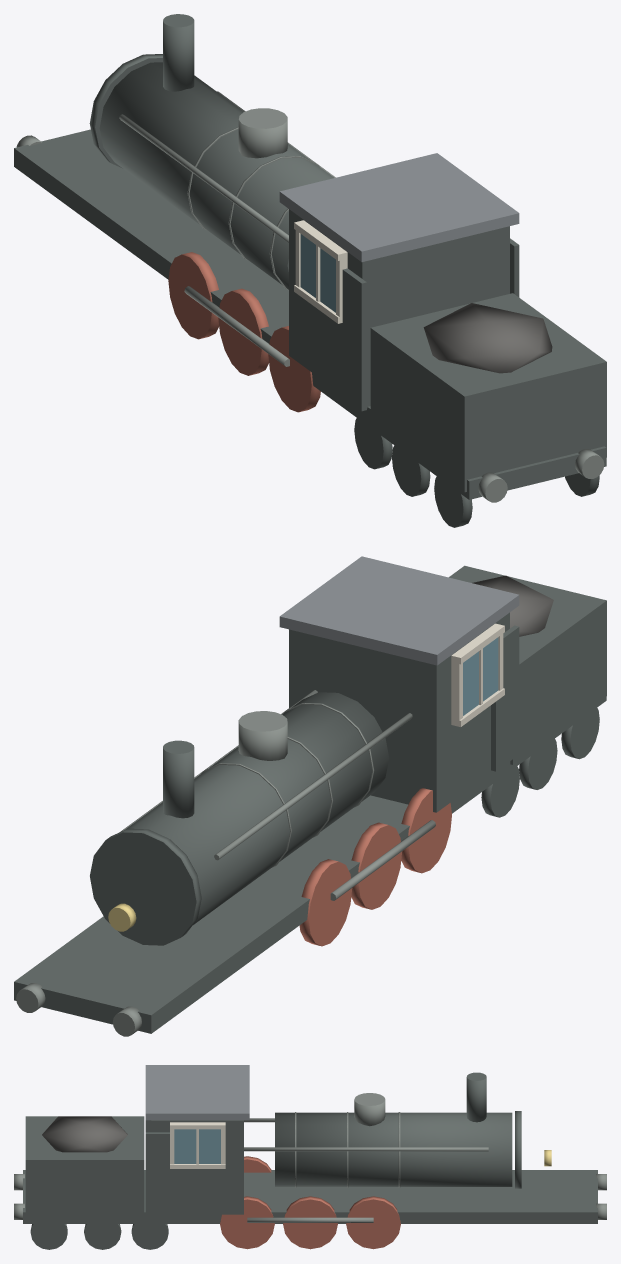
Rendered from rhine-g3_lod0.glb.
The picture shows the model from 3 angles, top to bottom: view 1: azimuth 30°, elevation 25°; view 2: azimuth 150°, elevation 25°; view 3: azimuth 270°, elevation 25°; orthographic projection. The views are drawn at different scales.
Visible parts, largest first — view 1: RF_Tender, RF_Boiler, RF_Chassis, RF_CabRoof, RF_Cab, RF_TenderCoal, RF_CabDoor.001, RF_DrivingWheel.003, RF_DrivingWheel.002, RF_Chimney, RF_DrivingWheel.001, RF_Dome (+10 smaller); view 2: RF_Chassis, RF_Boiler, RF_Cab, RF_CabRoof, RF_Tender, RF_SmokeboxFront, RF_DrivingWheel.003, RF_CabDoor.001, RF_DrivingWheel.002, RF_DrivingWheel.001, RF_Chimney, RF_Dome (+11 smaller); view 3: RF_Boiler, RF_Chassis, RF_Tender, RF_CabRoof, RF_Cab, RF_TenderCoal, RF_CabDoor, RF_DrivingWheel, RF_DrivingWheel.005, RF_DrivingWheel.004, RF_Window, RF_SteamPipe (+10 smaller).
Part boxes in pixels (<box>): RF_Tender: <box>370,293,606,492</box>; RF_Boiler: <box>99,62,334,289</box>; RF_Chassis: <box>14,129,606,499</box>; RF_CabRoof: <box>279,153,519,261</box>; RF_Cab: <box>289,209,509,408</box>; RF_TenderCoal: <box>423,303,552,373</box>; RF_CabDoor.001: <box>338,268,366,411</box>; RF_DrivingWheel.003: <box>168,252,219,339</box>; RF_DrivingWheel.002: <box>218,288,268,375</box>; RF_Chimney: <box>163,14,194,91</box>; RF_DrivingWheel.001: <box>268,326,320,412</box>; RF_Dome: <box>238,108,287,158</box>; RF_Chassis: <box>14,697,606,1033</box>; RF_Boiler: <box>125,692,389,924</box>; RF_Cab: <box>289,612,509,812</box>; RF_CabRoof: <box>279,556,519,665</box>; RF_Tender: <box>449,565,606,764</box>; RF_SmokeboxFront: <box>90,828,201,945</box>; RF_DrivingWheel.003: <box>299,859,352,946</box>; RF_CabDoor.001: <box>491,625,519,771</box>; RF_DrivingWheel.002: <box>351,822,401,909</box>; RF_DrivingWheel.001: <box>401,788,451,873</box>; RF_Chimney: <box>163,740,194,818</box>; RF_Dome: <box>238,711,287,760</box>; RF_Boiler: <box>275,1112,512,1186</box>; RF_Chassis: <box>23,1170,597,1223</box>; RF_Tender: <box>25,1116,144,1220</box>; RF_CabRoof: <box>145,1065,249,1120</box>; RF_Cab: <box>151,1120,243,1214</box>; RF_TenderCoal: <box>42,1116,127,1152</box>; RF_CabDoor: <box>145,1132,175,1214</box>; RF_DrivingWheel: <box>346,1196,400,1249</box>; RF_DrivingWheel.005: <box>283,1196,337,1249</box>; RF_DrivingWheel.004: <box>220,1196,274,1249</box>; RF_Window: <box>174,1129,220,1163</box>; RF_SteamPipe: <box>244,1147,488,1151</box>.
Bounding box in the file's own units: 3.28 × 4.53 × 15.98.
